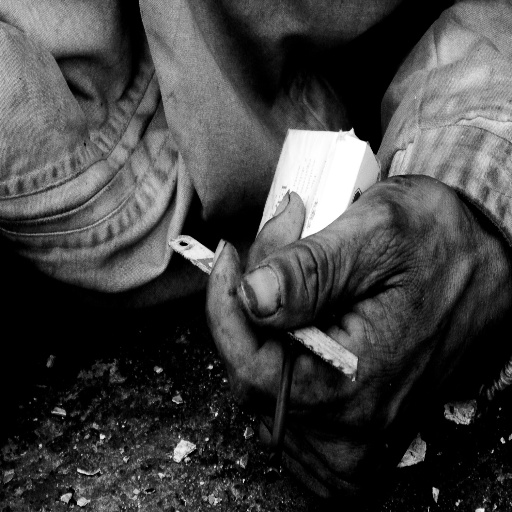hand: (204, 177, 477, 511)
